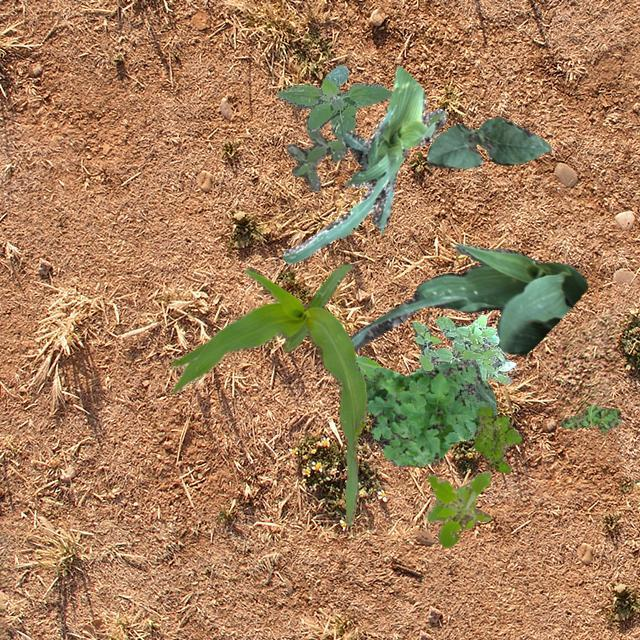crop: (170, 260, 366, 524), (282, 64, 446, 262), (349, 242, 586, 354), (426, 116, 550, 168), (474, 364, 496, 416)
weed: (354, 356, 484, 466), (276, 64, 392, 140), (408, 314, 516, 384), (424, 469, 491, 546), (286, 128, 346, 190), (474, 406, 520, 472), (558, 404, 620, 432)
